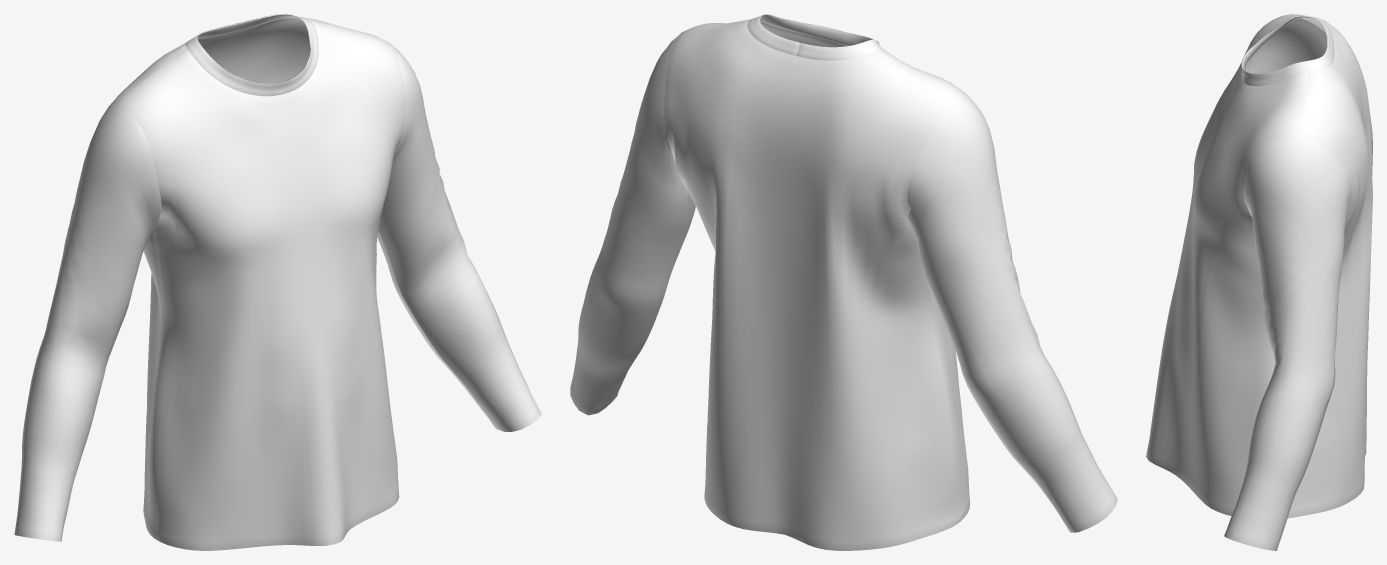
3 renders of one model, left to right at view 1: azimuth 30°, elevation 25°; view 2: azimuth 150°, elevation 25°; view 3: azimuth 270°, elevation 25°, orthographic. The views are drawn at different scales.
Parts seen in each view (by area): view 1: LP_001:Pattern_348759.002, LP_001:Pattern_16431418.002, LP_001:Pattern_16431417.002, LP_001:Pattern_13104037.001, LP_001:Pattern_13104037.002, LP_001:Pattern_18924713.002, LP_001:Pattern_18924713.001; view 2: LP_001:Pattern_13104037.002, LP_001:Pattern_16431418.002, LP_001:Pattern_16431417.002, LP_001:Pattern_348759.002, LP_001:Pattern_18924713.002, LP_001:Pattern_18924713.001, LP_001:Pattern_348759.001; view 3: LP_001:Pattern_348759.002, LP_001:Pattern_16431417.002, LP_001:Pattern_13104037.002, LP_001:Pattern_16431418.001, LP_001:Pattern_18924713.002, LP_001:Pattern_18924713.001.
Part boxes in pixels (box(x1,y1,x2,y2)): LP_001:Pattern_348759.002: box(118, 19, 405, 550); LP_001:Pattern_16431418.002: box(14, 104, 161, 541); LP_001:Pattern_16431417.002: box(377, 43, 541, 431); LP_001:Pattern_13104037.001: box(198, 18, 310, 83); LP_001:Pattern_13104037.002: box(109, 17, 340, 538); LP_001:Pattern_18924713.002: box(185, 16, 318, 96); LP_001:Pattern_18924713.001: box(197, 14, 311, 84); LP_001:Pattern_13104037.002: box(664, 21, 958, 550); LP_001:Pattern_16431418.002: box(907, 96, 1117, 532); LP_001:Pattern_16431417.002: box(570, 33, 695, 415); LP_001:Pattern_348759.002: box(678, 19, 969, 522); LP_001:Pattern_18924713.002: box(747, 15, 883, 60); LP_001:Pattern_18924713.001: box(759, 14, 877, 45); LP_001:Pattern_348759.001: box(760, 21, 847, 47); LP_001:Pattern_348759.002: box(1146, 14, 1307, 515); LP_001:Pattern_16431417.002: box(1224, 136, 1352, 550); LP_001:Pattern_13104037.002: box(1273, 16, 1372, 518); LP_001:Pattern_16431418.001: box(1245, 18, 1326, 73); LP_001:Pattern_18924713.002: box(1241, 19, 1334, 86); LP_001:Pattern_18924713.001: box(1241, 15, 1327, 73).
Bounding box in the file's own units: 797 × 686 × 327.
2 materials, 2 textured.
